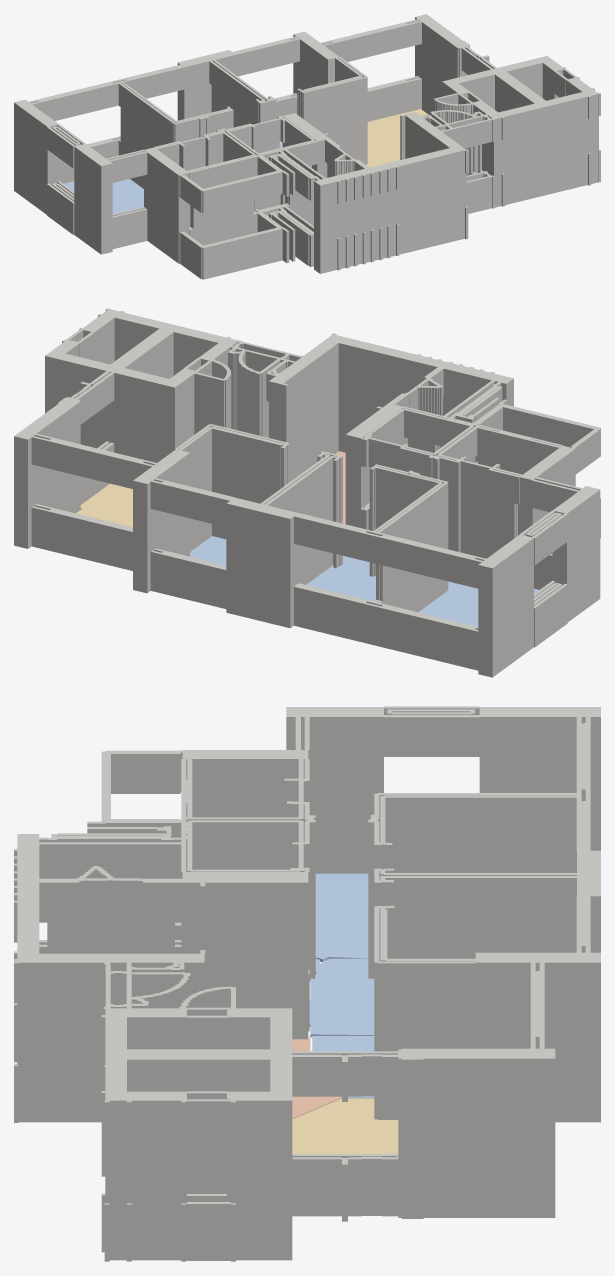
The picture shows the model from 3 angles, top to bottom: view 1: azimuth 30°, elevation 25°; view 2: azimuth 150°, elevation 25°; view 3: azimuth 270°, elevation 25°; orthographic projection. The views are drawn at different scales.
Parts seen in each view (by area): view 1: walls, room:living:2, room:bedroom:0; view 2: walls, room:bedroom:1, room:bedroom:0, room:living:2, room:bedroom:5; view 3: walls, room:living:2, room:bedroom:1, room:bedroom:0, room:bedroom:5, room:kitchen:10.
Part boxes in pixels (left/top/right/bottom): walls: left=14, top=14, right=600, bottom=279; room:living:2: left=366, top=109, right=427, bottom=167; room:bedroom:0: left=63, top=179, right=143, bottom=213; walls: left=14, top=308, right=600, bottom=677; room:bedroom:1: left=306, top=556, right=375, bottom=601; room:bedroom:0: left=418, top=581, right=538, bottom=626; room:living:2: left=76, top=483, right=132, bottom=527; room:bedroom:5: left=190, top=536, right=226, bottom=565; walls: left=14, top=706, right=600, bottom=1261; room:living:2: left=292, top=1098, right=398, bottom=1153; room:bedroom:1: left=309, top=958, right=374, bottom=1037; room:bedroom:0: left=315, top=873, right=368, bottom=962; room:bedroom:5: left=312, top=1036, right=374, bottom=1098; room:kitchen:10: left=292, top=1035, right=341, bottom=1118.
Size of the model in its own units: 14.91 by 2.8 by 9.34.
